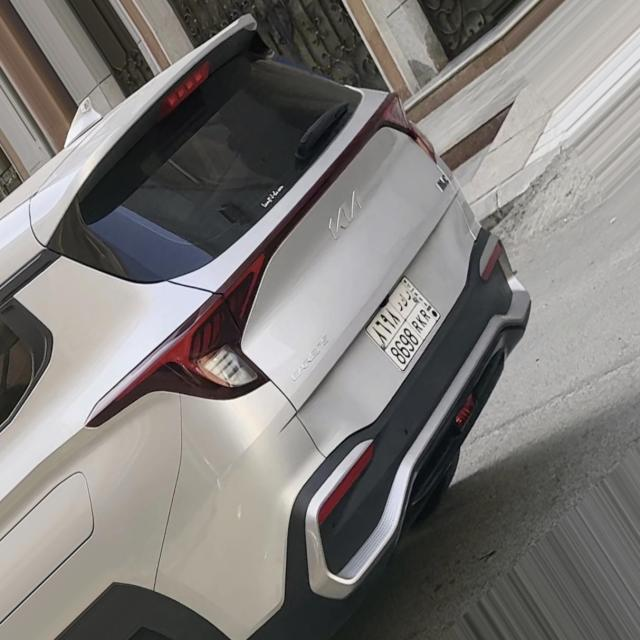Car-plate: (350, 266, 454, 388)
